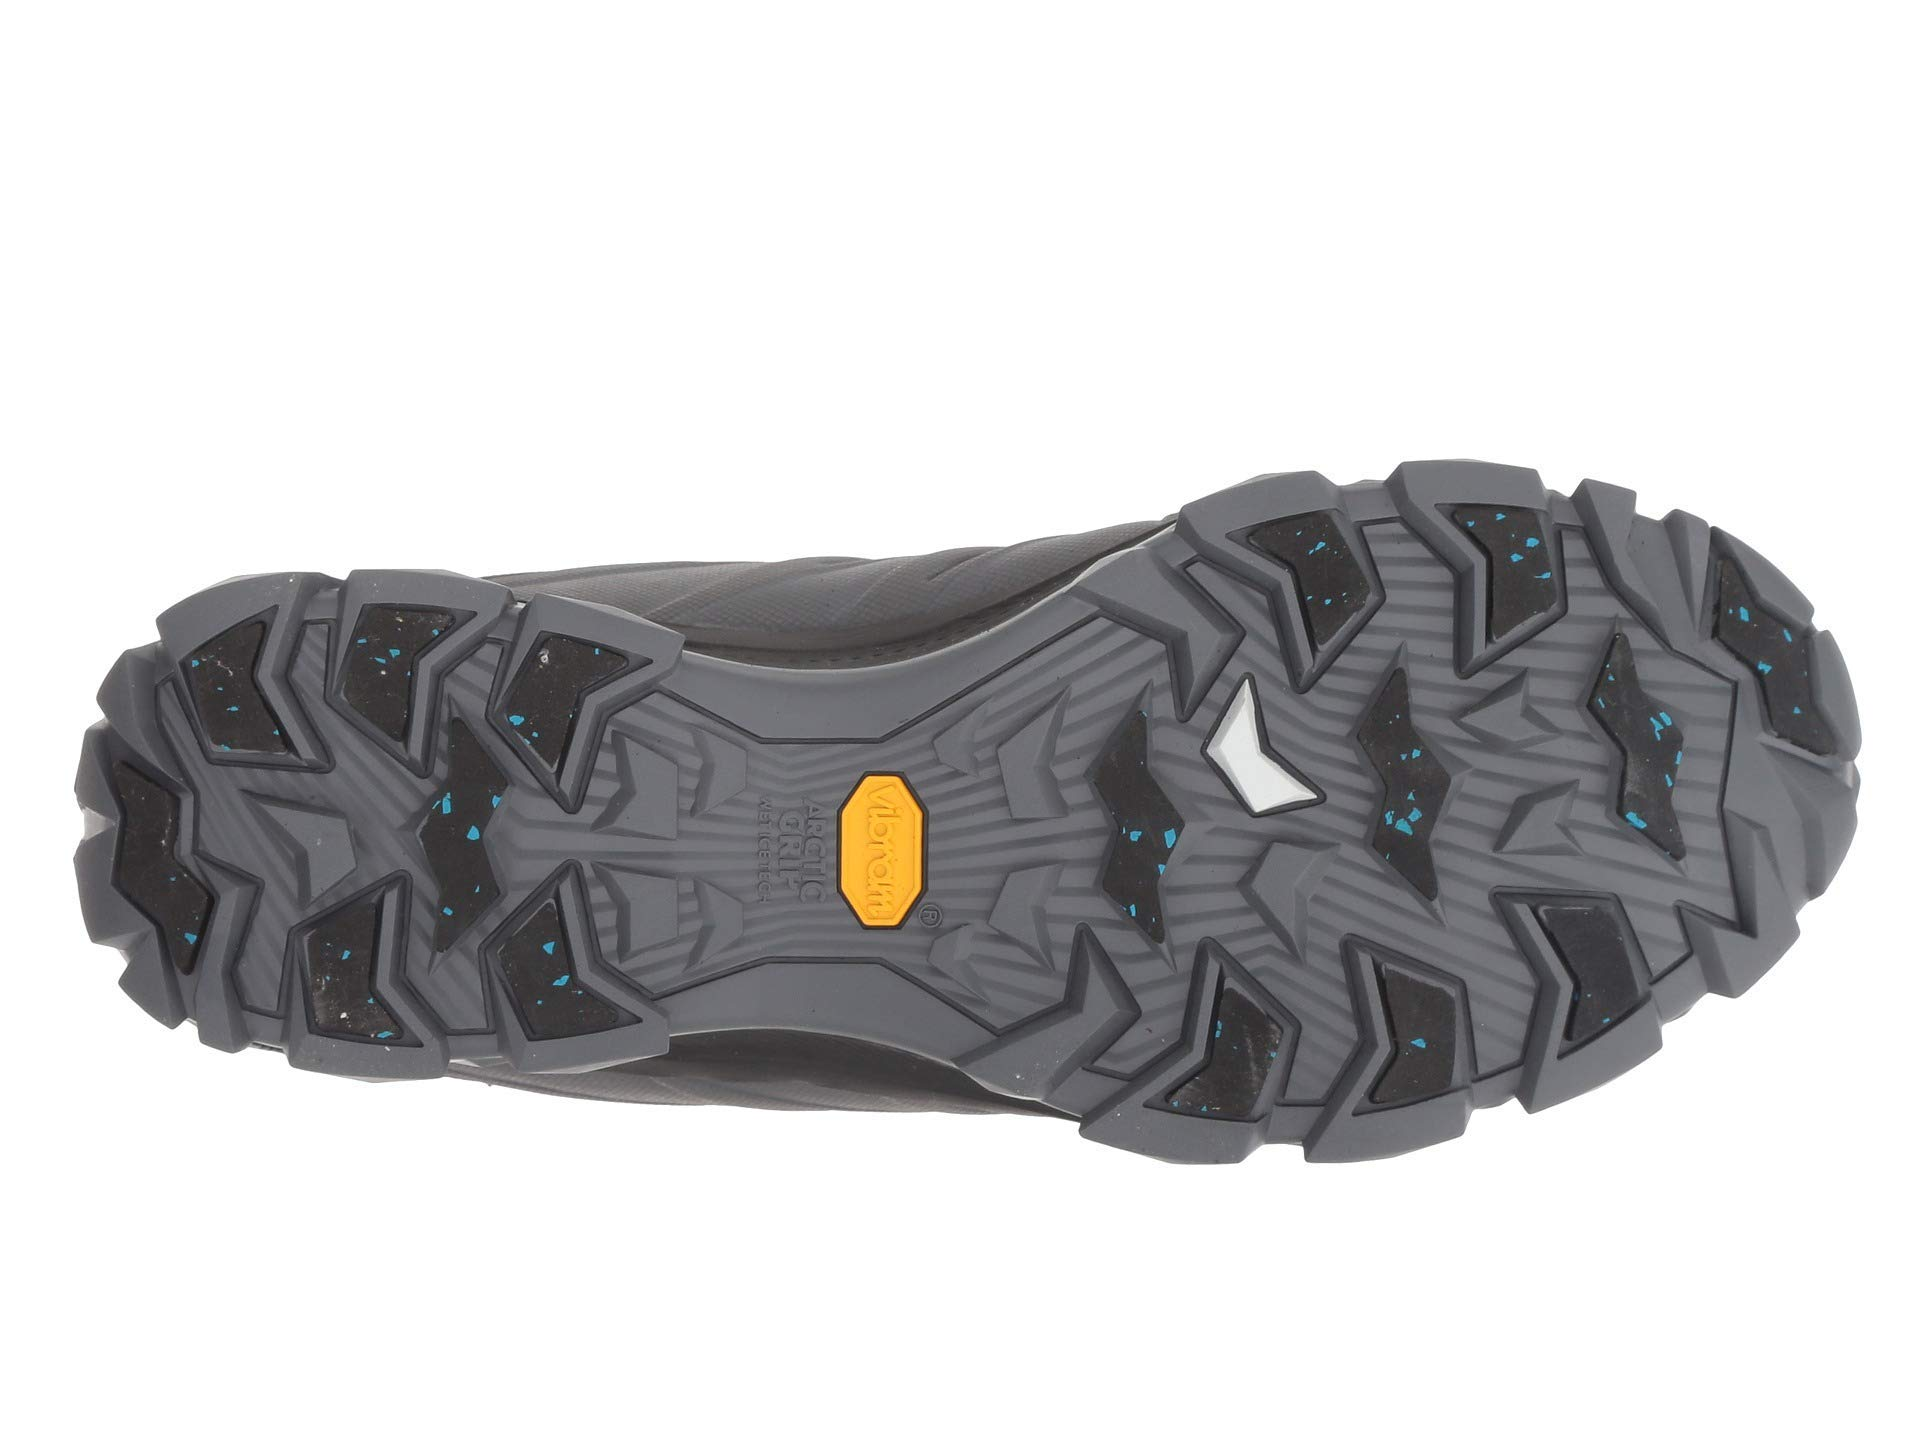line: (739, 735, 968, 968)
polygon: (739, 735, 968, 968)
text: (739, 735, 968, 968)
